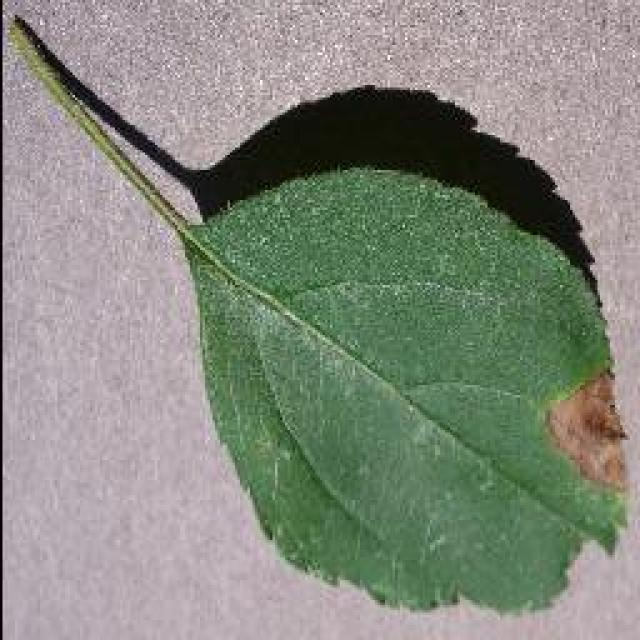Black_rot: (8, 12, 630, 618)
